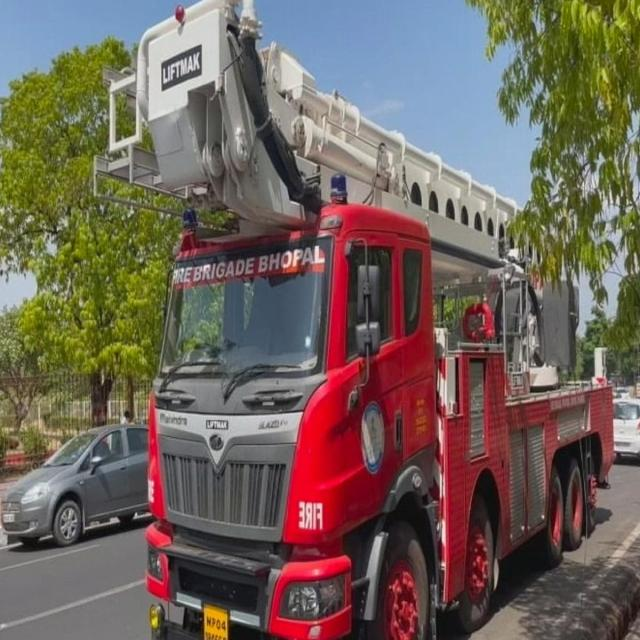car: (0, 425, 146, 545)
emergency: (112, 0, 612, 639)
